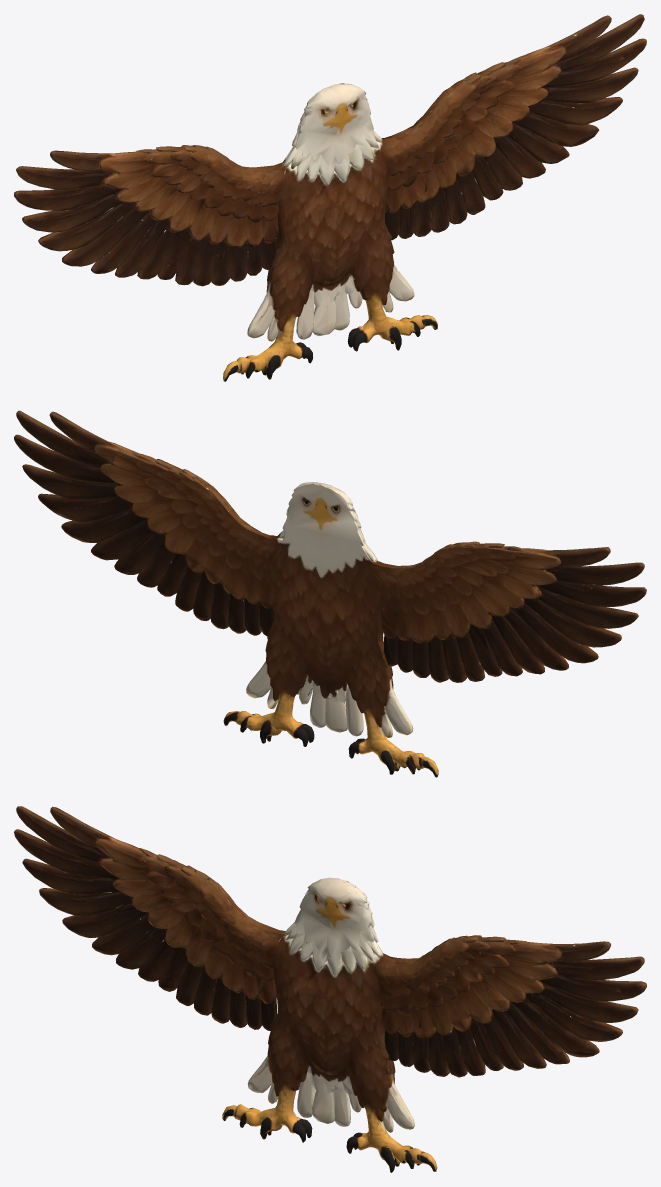
Rendered from upm_mv3pq63r7e2.glb.
3 renders of one model, top to bottom at view 1: azimuth 30°, elevation 25°; view 2: azimuth 150°, elevation 25°; view 3: azimuth 330°, elevation 25°, orthographic.
Bounding box in the file's own units: 1.9 × 0.8051 × 0.0543.
1 material, 1 textured.
